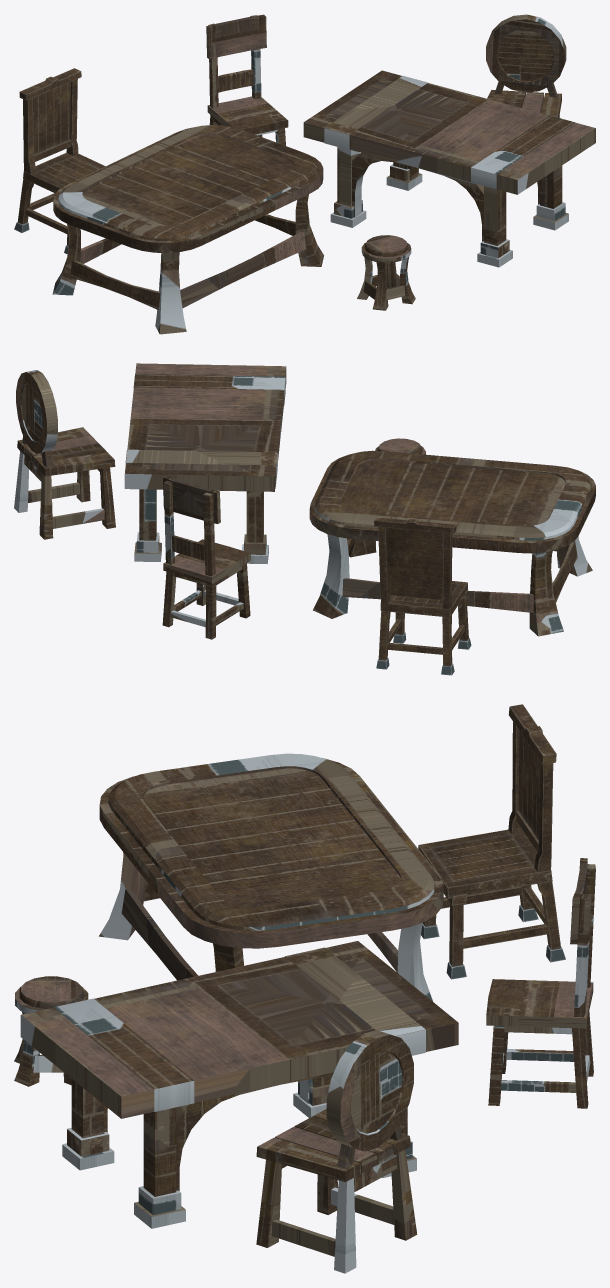
File: medieval_final.fbx
The picture shows the model from 3 angles, top to bottom: view 1: azimuth 30°, elevation 25°; view 2: azimuth 150°, elevation 25°; view 3: azimuth 270°, elevation 25°; orthographic projection. The views are drawn at different scales.
Visible parts, largest first — view 1: Cube.001, Cube.004, Cylinder.001, Cube, Cube.002, Cube.025, Cube.054, Cube.053, Cube.007, Cube.005, Cube.003, Cube.027 (+14 smaller); view 2: Cube.001, Cube.004, Cube, Cube.025, Cylinder.001, Cube.053, Cube.054, Cube.002, Cube.008, Cube.050, Cube.007, Cube.044 (+20 smaller); view 3: Cube.001, Cube.004, Cylinder.001, Cube.027, Cube.053, Cube.054, Cube.040, Cube, Cube.044, Cube.005, Cube.002, Cube.028 (+22 smaller).
Boxes of the visible parts, <box> form: Cube.001: <box>53,125,323,252</box>; Cube.004: <box>303,70,595,194</box>; Cylinder.001: <box>486,14,566,92</box>; Cube: <box>52,194,323,334</box>; Cube.002: <box>80,232,305,307</box>; Cube.025: <box>33,82,71,161</box>; Cube.054: <box>324,76,427,149</box>; Cube.053: <box>471,115,574,189</box>; Cube.007: <box>206,14,266,59</box>; Cube.005: <box>477,186,512,267</box>; Cube.003: <box>70,214,295,309</box>; Cube.027: <box>23,153,105,193</box>; Cube.001: <box>309,450,595,553</box>; Cube.004: <box>124,363,286,491</box>; Cube: <box>313,534,592,636</box>; Cube.025: <box>385,527,443,600</box>; Cylinder.001: <box>16,370,57,453</box>; Cube.053: <box>133,374,285,405</box>; Cube.054: <box>125,449,277,480</box>; Cube.002: <box>342,550,556,612</box>; Cube.008: <box>163,481,215,576</box>; Cube.050: <box>134,489,161,561</box>; Cube.007: <box>163,476,220,523</box>; Cube.044: <box>14,451,53,539</box>; Cube.001: <box>99,753,443,948</box>; Cube.004: <box>20,941,458,1118</box>; Cylinder.001: <box>326,1030,413,1151</box>; Cube.027: <box>418,829,552,898</box>; Cube.053: <box>53,998,194,1111</box>; Cube.054: <box>284,947,425,1055</box>; Cube.040: <box>134,1107,185,1228</box>; Cube: <box>99,852,432,1001</box>; Cube.044: <box>334,1150,417,1273</box>; Cube.005: <box>62,1079,114,1170</box>; Cube.002: <box>121,889,398,980</box>; Cube.028: <box>508,722,553,872</box>.
Bounding box in the file's own units: 375 × 99.72 × 241.
